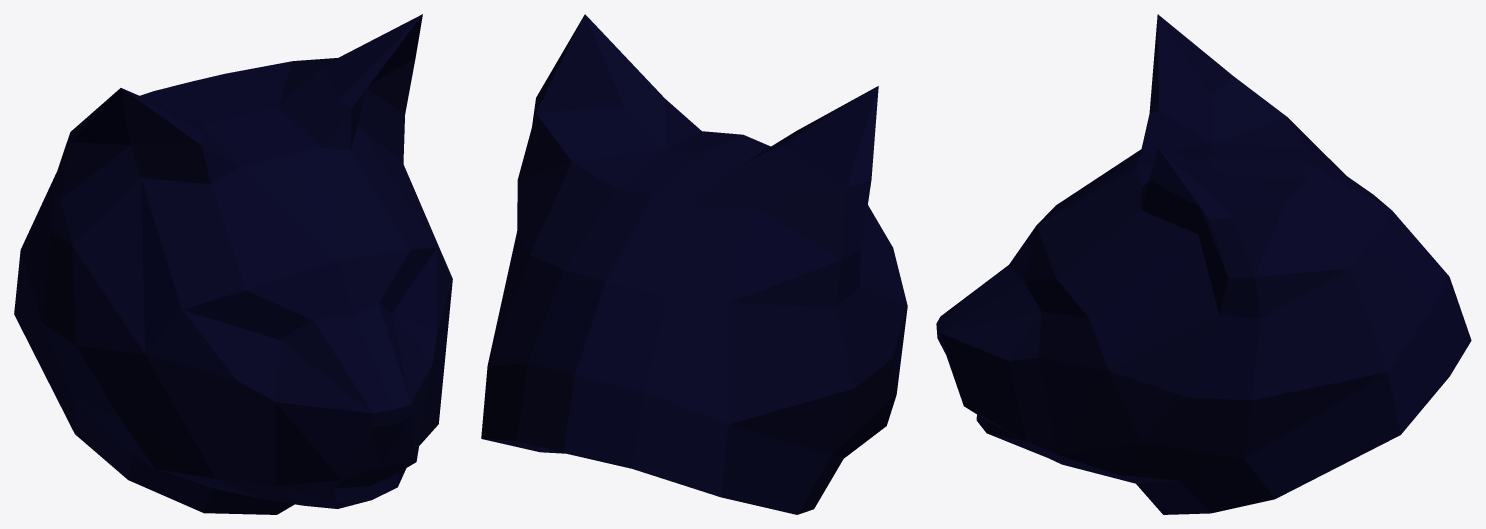
Rendered from Gato_Cabeza.FBX.
3 renders of one model, left to right at view 1: azimuth 30°, elevation 25°; view 2: azimuth 150°, elevation 25°; view 3: azimuth 270°, elevation 25°, orthographic. The views are drawn at different scales.
Visible parts, largest first — view 1: Gato_Cabeza; view 2: Gato_Cabeza; view 3: Gato_Cabeza.
Boxes of the visible parts, x1,y1,x2,y2 form: Gato_Cabeza: (14,14,452,514); Gato_Cabeza: (481,14,907,514); Gato_Cabeza: (936,14,1471,514).
Bounding box in the file's own units: 15.57 × 18.98 × 22.12.
